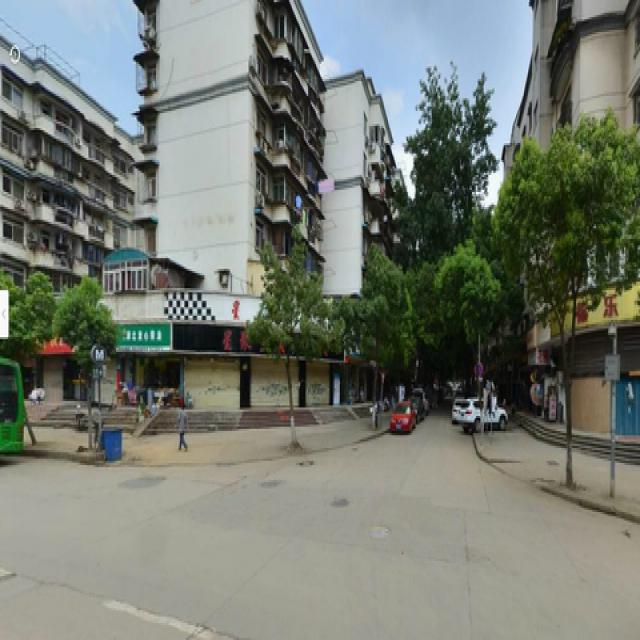cinn: (520, 158, 599, 482), (258, 260, 314, 440), (63, 296, 108, 478)
